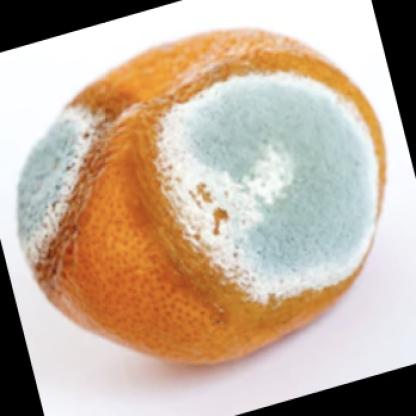rotten: (16, 31, 387, 368)
